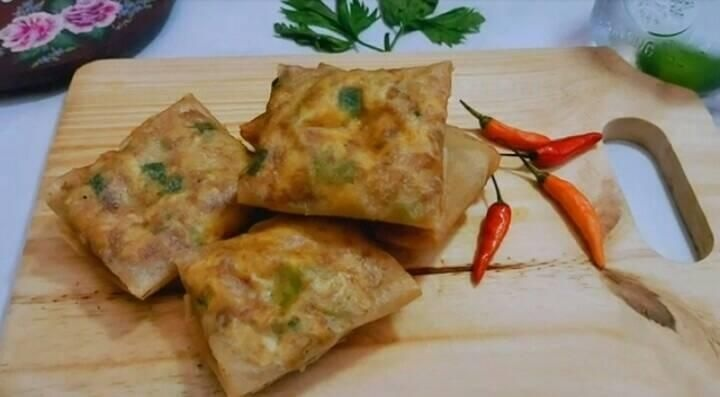martabak: (47, 61, 500, 396)
